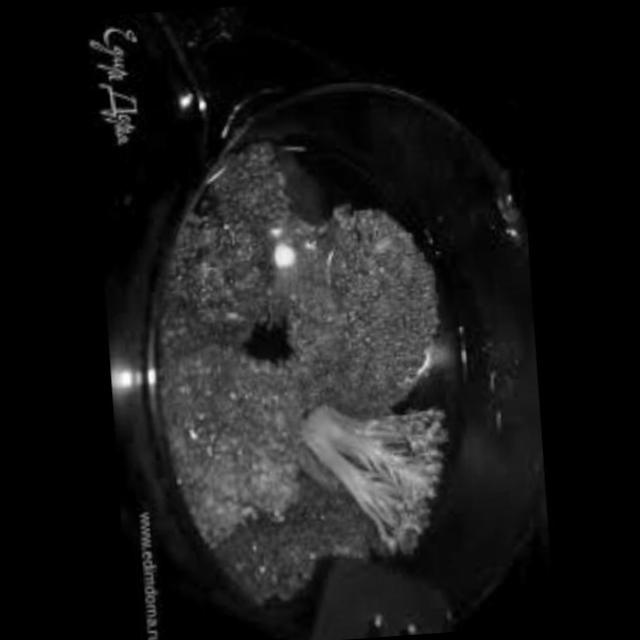bong cai xanh: (150, 128, 468, 598)
